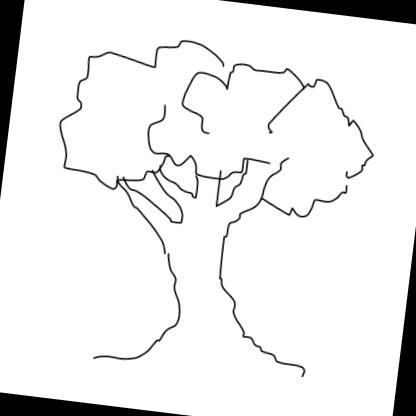branch_cut: (111, 162, 267, 241)
crown_dizzy: (54, 29, 384, 225)
trunk_reflex: (143, 232, 258, 328)
